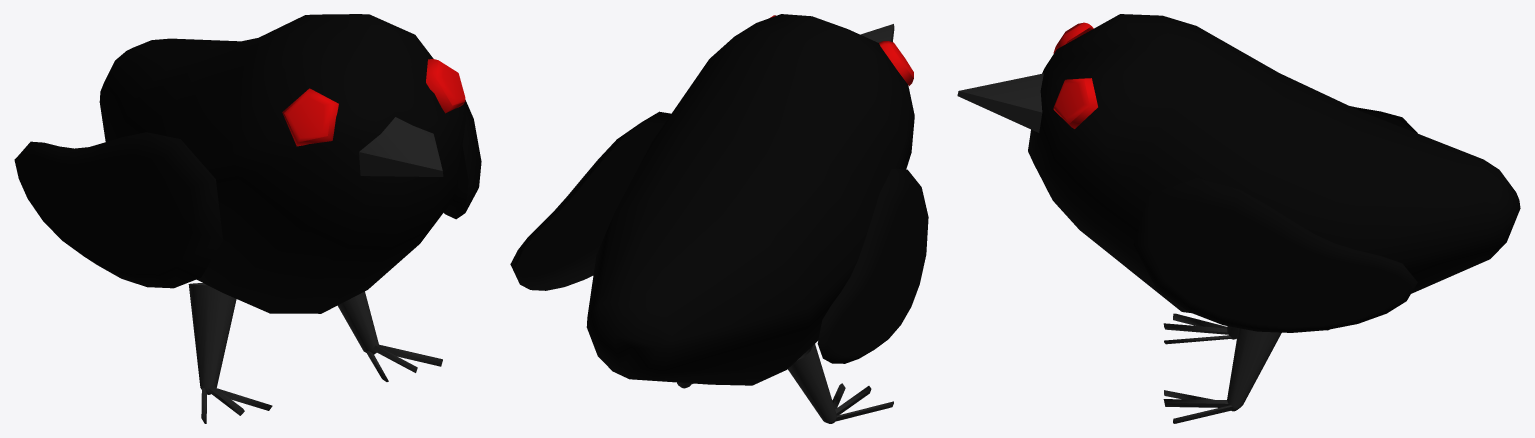
Rendered from bird 4 (vertex).fbx.
3 renders of one model, left to right at view 1: azimuth 30°, elevation 25°; view 2: azimuth 150°, elevation 25°; view 3: azimuth 270°, elevation 25°, orthographic. The views are drawn at different scales.
Parts seen in each view (by area): view 1: bird4; view 2: bird4; view 3: bird4.
Boxes of the visible parts, x1,y1,x2,y2 form: bird4: (14,14,481,423); bird4: (510,14,928,423); bird4: (957,14,1520,423).
Size of the model in its own units: 27.82 by 28.69 by 41.62.
